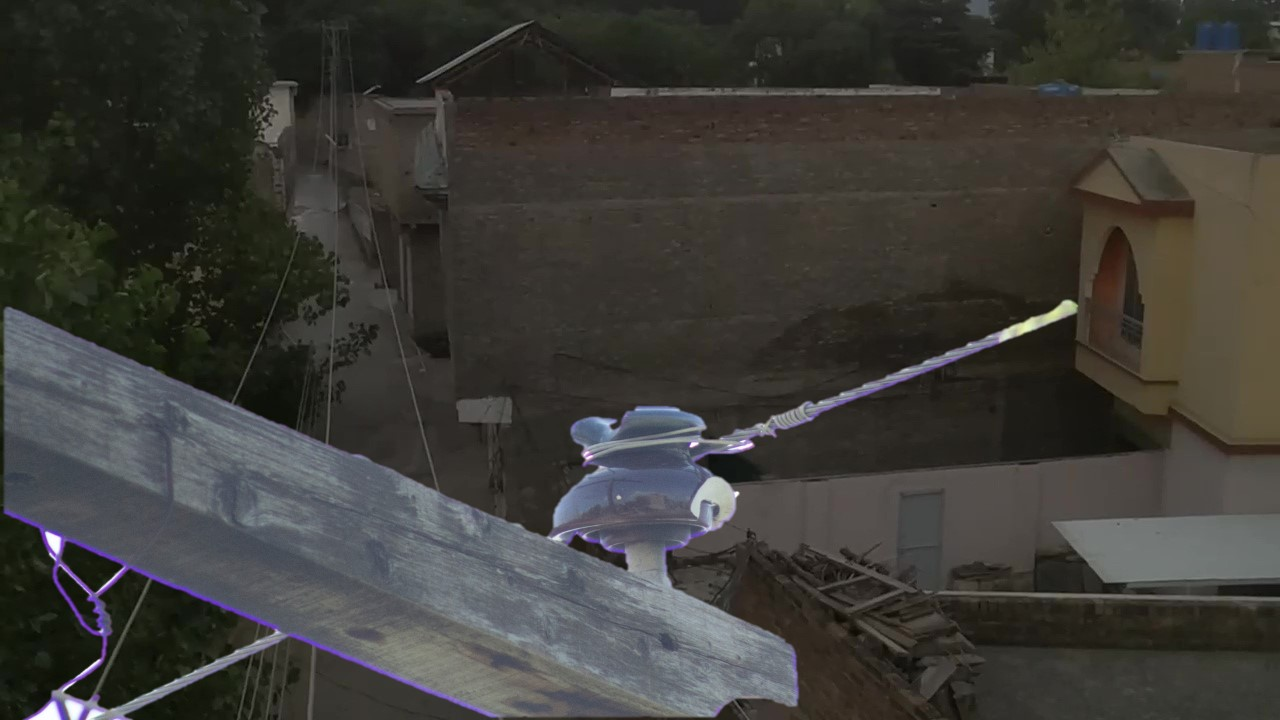defect_pin: (541, 391, 752, 562)
